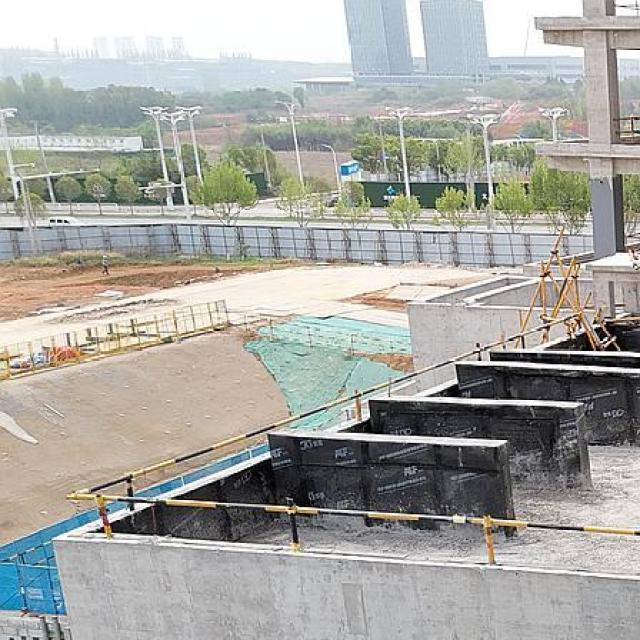edge_guardrail: (64, 309, 640, 566), (1, 539, 56, 567), (614, 116, 640, 138), (624, 232, 640, 244)
